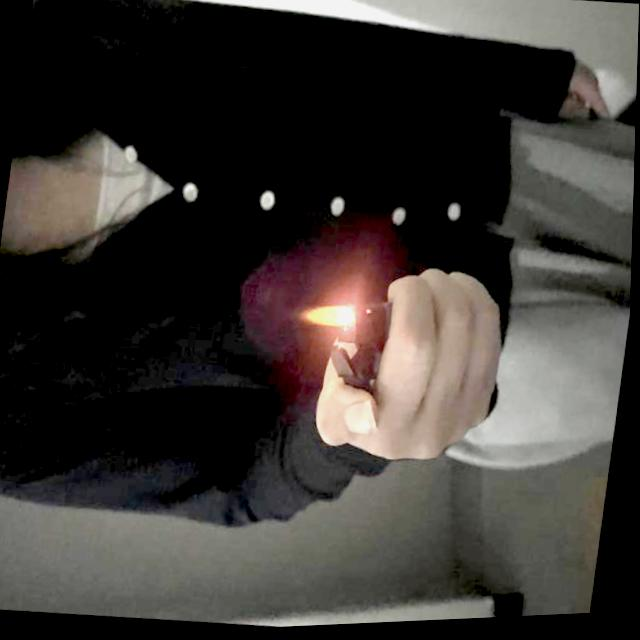Fire: (305, 302, 353, 329)
